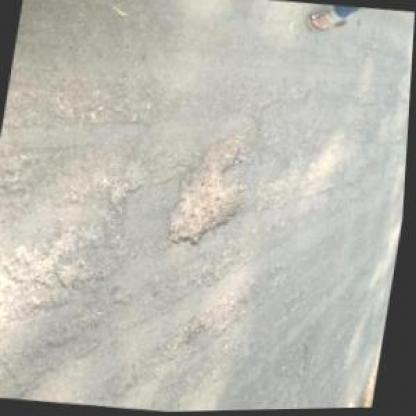pothole: (162, 125, 257, 255)
